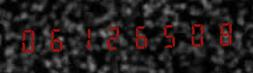eight: (206, 17, 232, 49)
five: (152, 19, 178, 51)
one: (71, 21, 97, 54)
six: (44, 22, 70, 54), (125, 20, 151, 52)
two: (98, 20, 124, 53)
zero: (17, 23, 43, 55), (179, 18, 205, 50)
